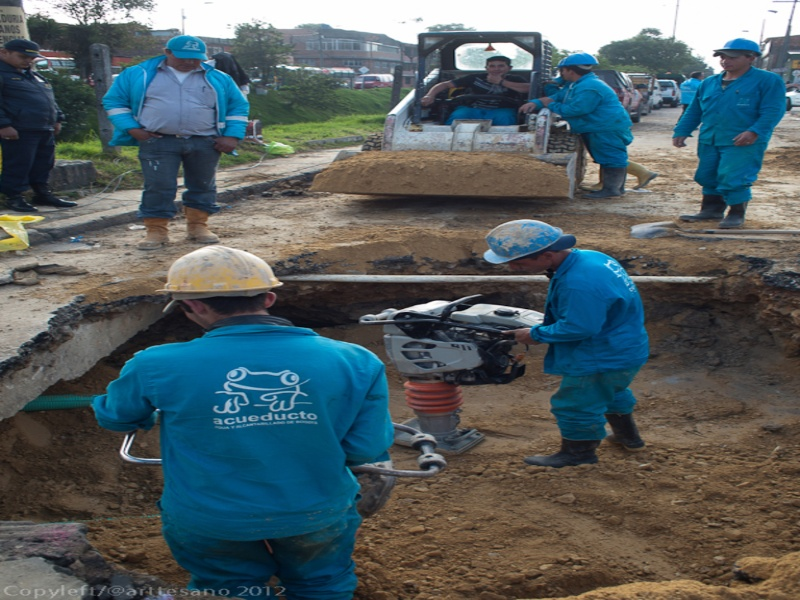helmet: (154, 242, 285, 293), (487, 219, 569, 262), (563, 52, 602, 73), (717, 38, 757, 55)
jacket: (139, 337, 401, 533), (549, 243, 653, 373), (697, 72, 781, 153), (558, 75, 632, 140)
